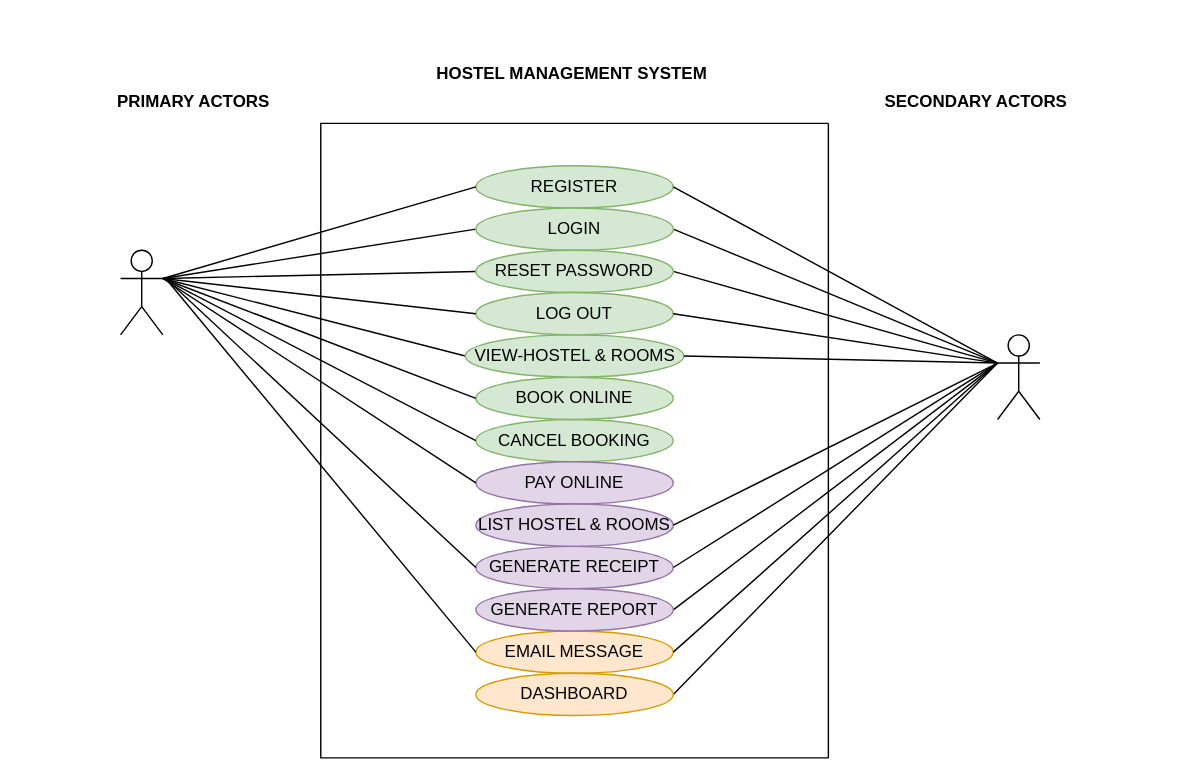
Image size: 1190x783. Some labels were removed from this diagram. The shapes that lost their labels are listed below. From the top down, each one's centre as x and y in pixels, then its label:
At (x=141, y=292): "student-user".
At (x=1018, y=376): "manager-user".
